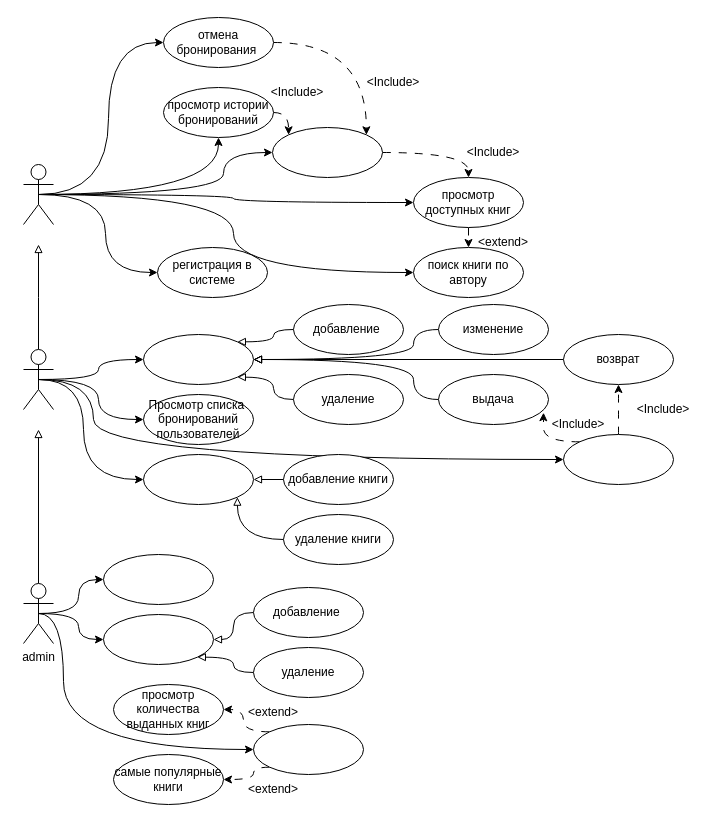
Image size: 711x822. Some labels were removed from this diagram. Each missing label, with the centre of its shape:
"librarian" belongs at pixel 38 379.
"reader" belongs at pixel 38 194.
"бронирование книги" belongs at pixel 327 152.
"просмотр аналитики" belongs at pixel 308 749.
"управление каталогом" belongs at pixel 198 479.
"управление книгами" belongs at pixel 198 359.
"управление филиалами" belongs at pixel 158 639.
"учет" belongs at pixel 618 459.
"учетными записями" belongs at pixel 158 579.
